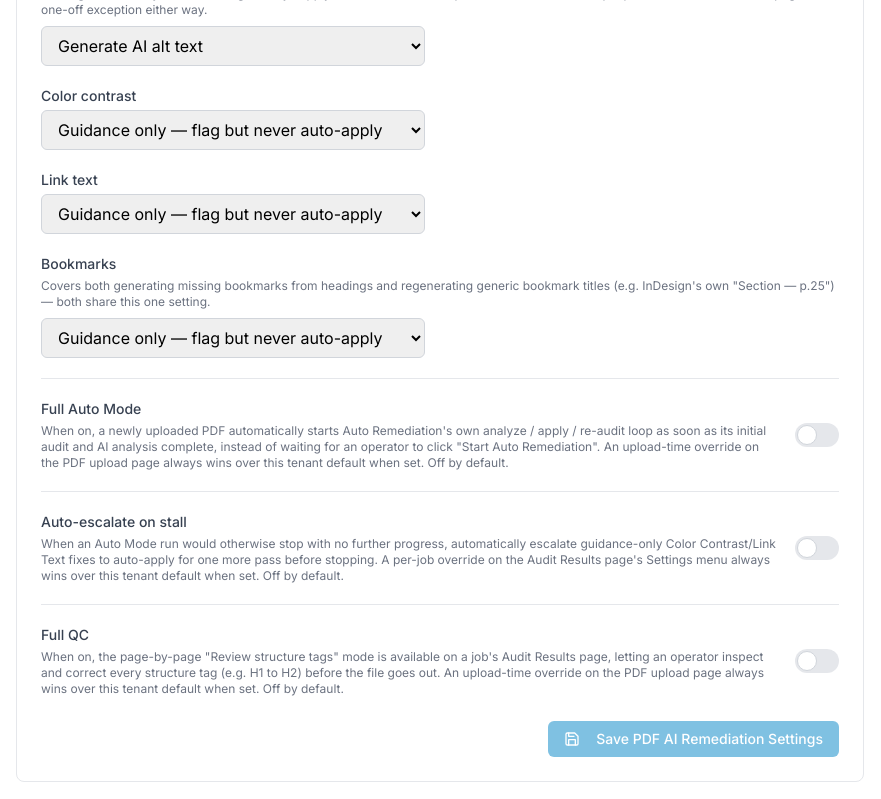
Test case: TenantWorkflowSettings — PDF AI Remediation tenant defaults › enables the Save button when only the Full Auto Mode toggle differs from the saved value
The width and height of the screenshot is (881, 799).
(page scrolled)
Expected: the button "Save PDF AI Remediation Settings" is disabled, [548,721,839,757]
Click the checkbox named "Full Auto Mode" at (817, 435), box [795,423,839,447]
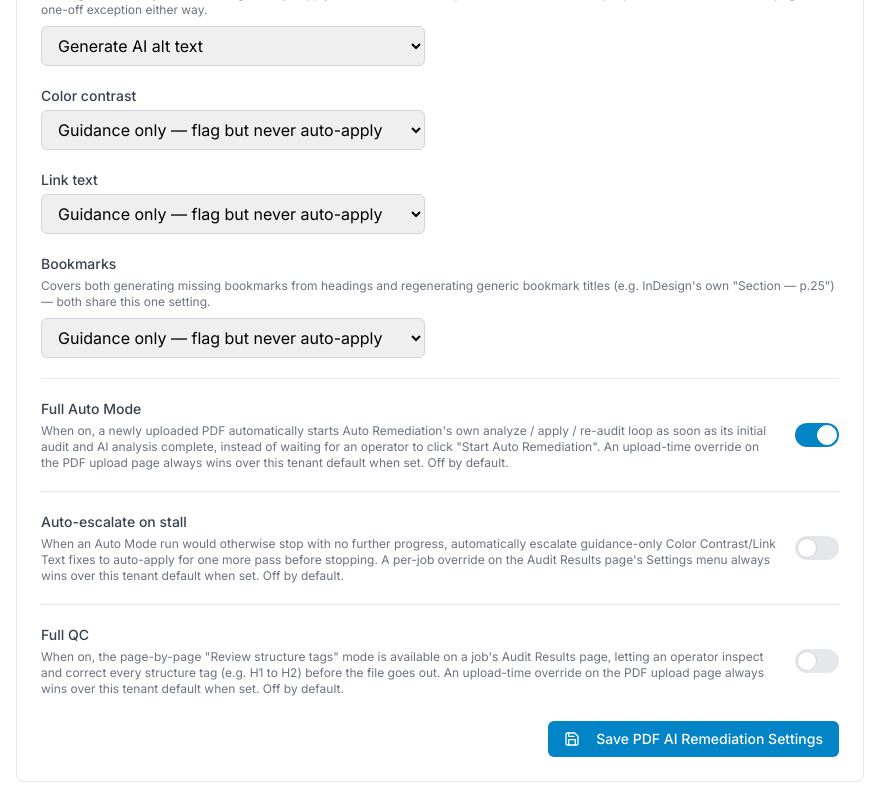
Expected: the button "Save PDF AI Remediation Settings" is enabled, [548,721,839,757]
